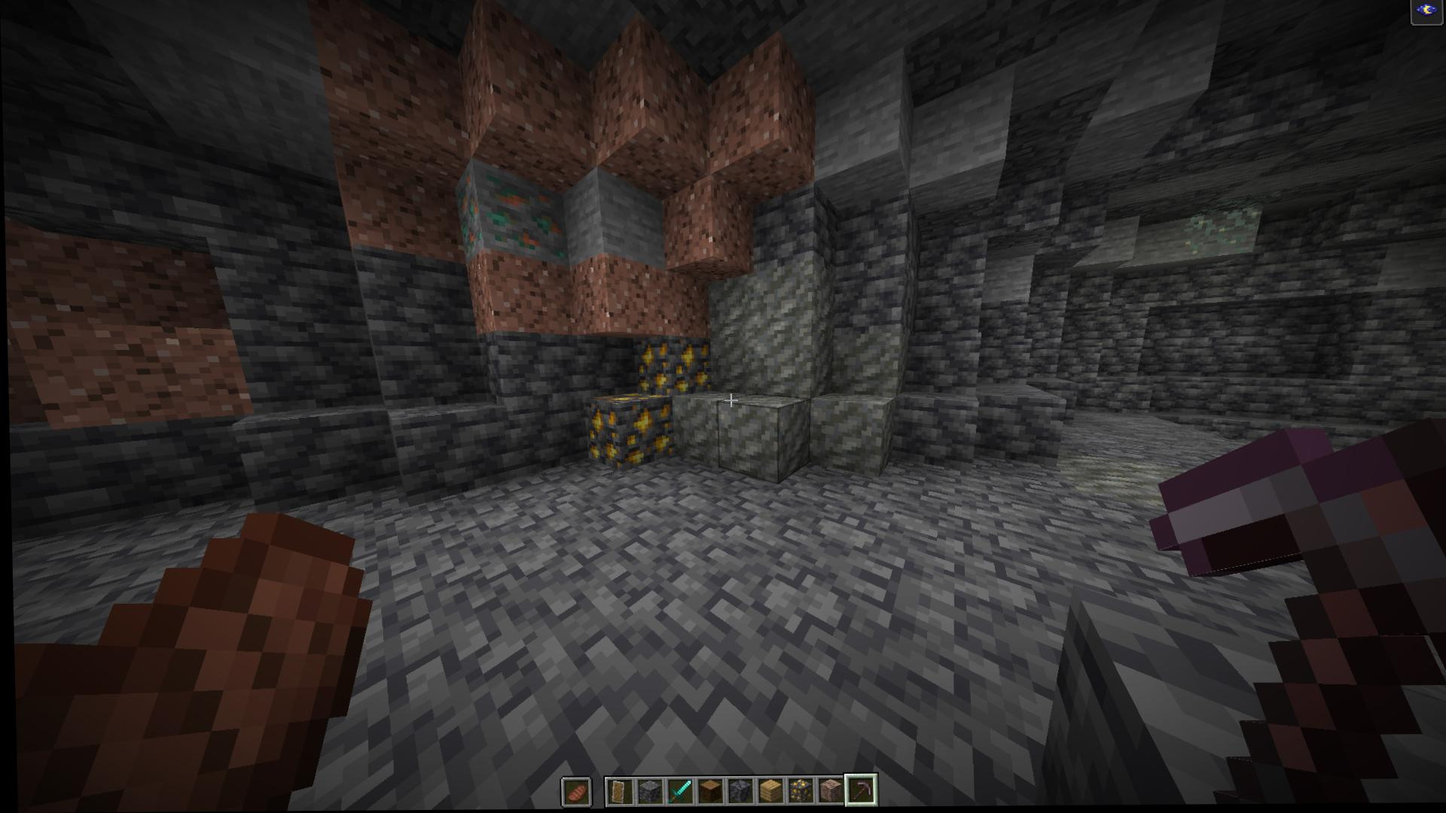gold ore: (624, 404, 674, 461), (581, 401, 622, 463), (669, 336, 712, 391), (633, 336, 669, 397)
